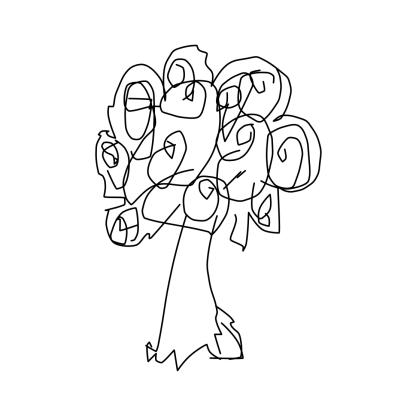crown_dizzy: (89, 43, 323, 252)
root_only: (136, 320, 250, 376)
trunk_reflex: (162, 242, 219, 307)
